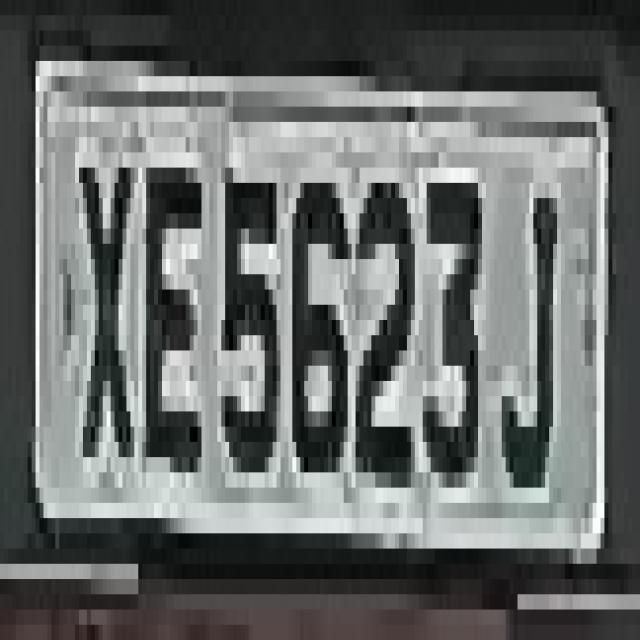2: (352, 91, 418, 503)
3: (415, 106, 486, 488)
5: (210, 137, 280, 488)
6: (284, 152, 356, 472)
E: (134, 122, 198, 472)
J: (490, 168, 561, 533)
X: (67, 122, 138, 503)
